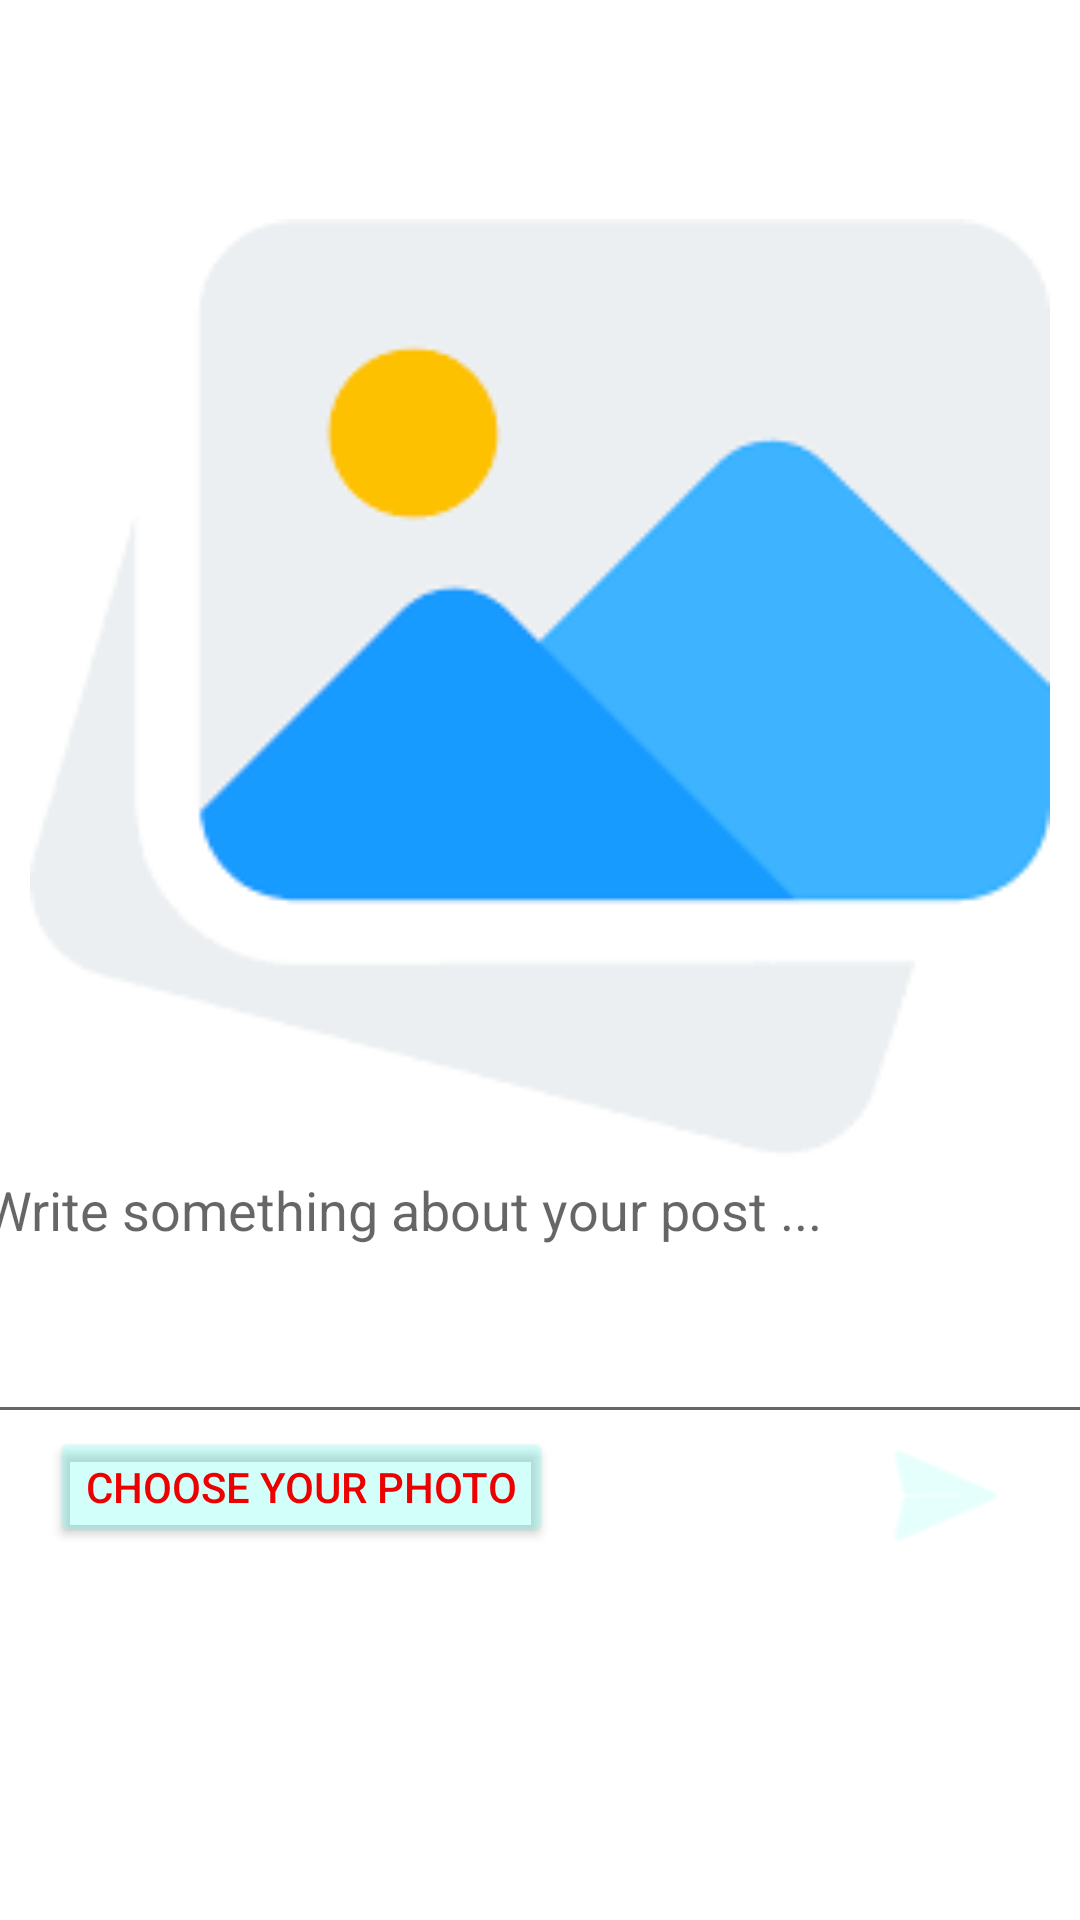

Locate icon controls on the screen. Image size 1080px x 1920px, boxes as (x1, y1, x2, y2).
send: (899, 1455, 992, 1537)
